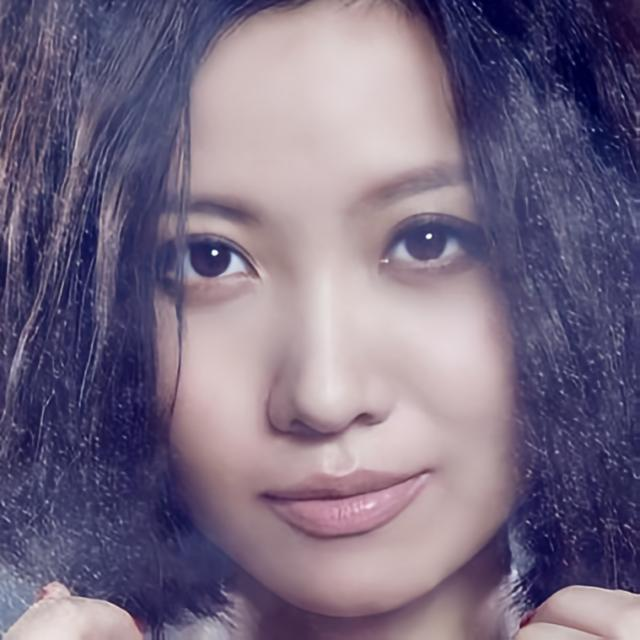content: (142, 0, 524, 620)
